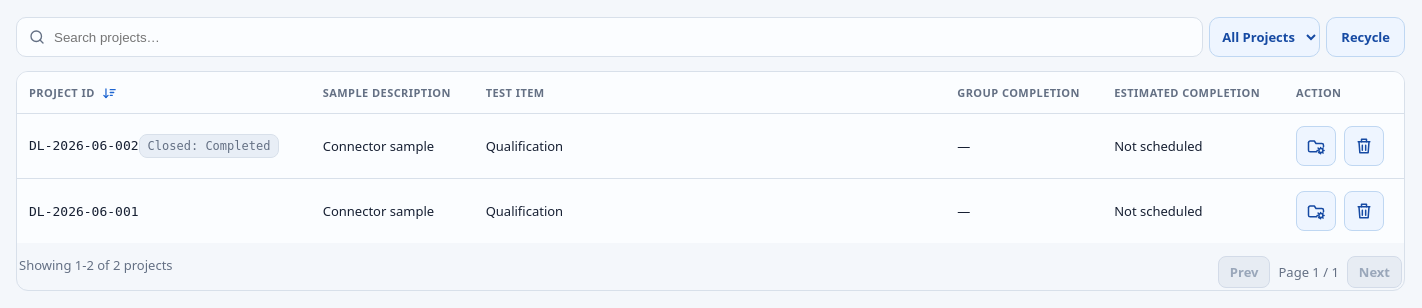
Test: ProjectListPage lifecycle registry views › defaults to all projects while keeping On-going available as an explicit filter
Expected: the text "DL-2026-06-001" is shown, [17,178,311,243]
Expected: the text "DL-2026-06-002" is shown, [29,138,139,153]
Select "On-going" in the dropdown named "Project view": coordinates (1265, 37) [1209,17,1320,57]
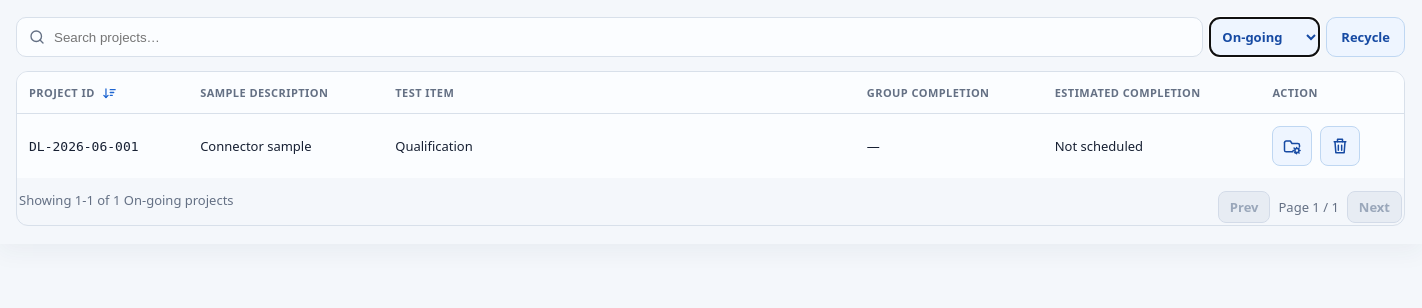
Expected: the text "DL-2026-06-002" is gone
